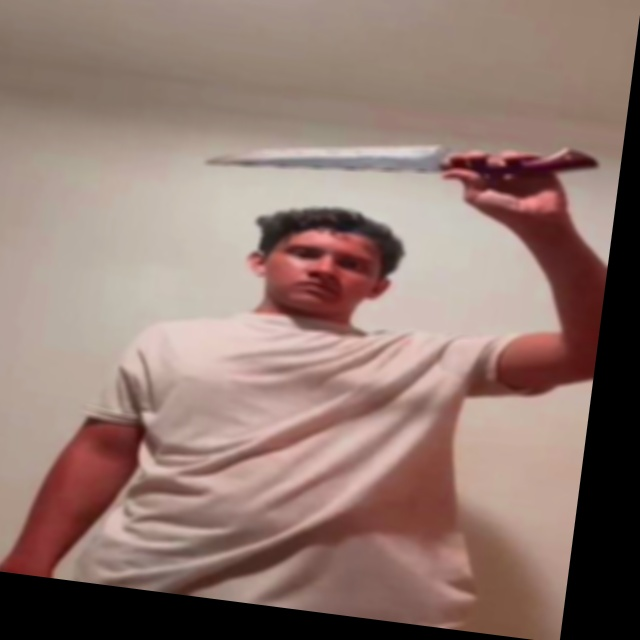Sharp-Object: (206, 115, 456, 195)
